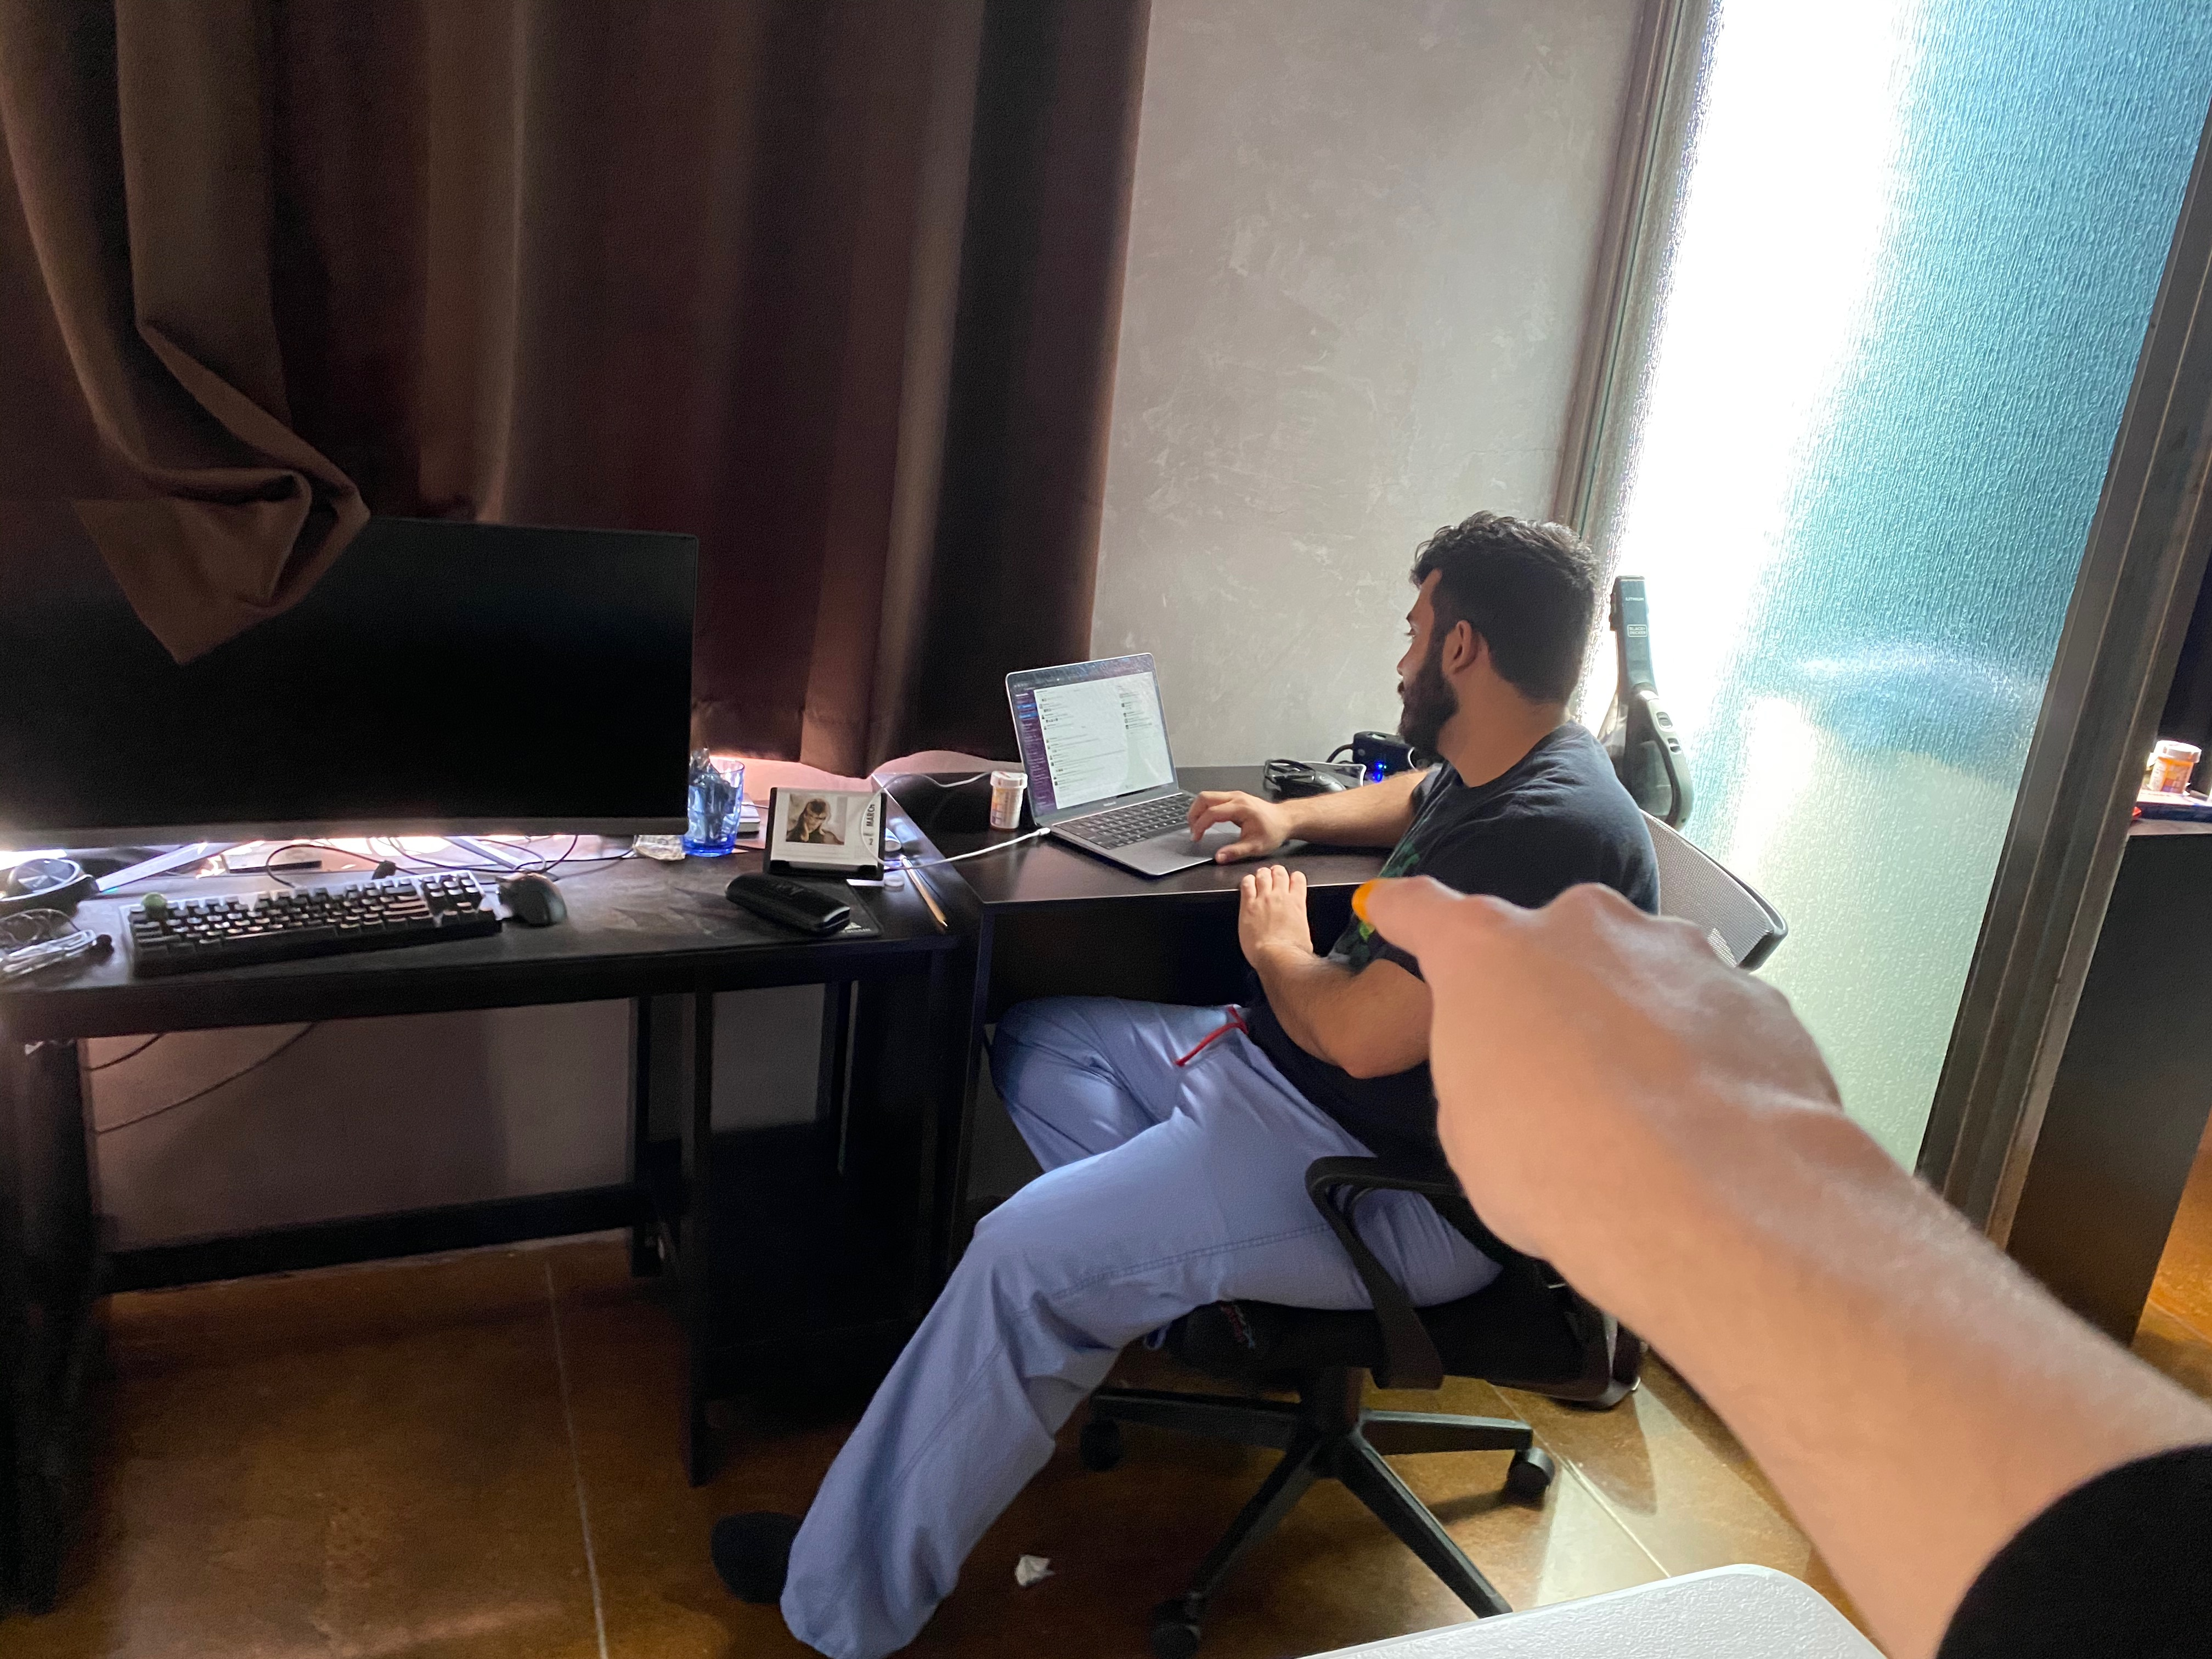fingertip: (1334, 861, 1420, 939)
